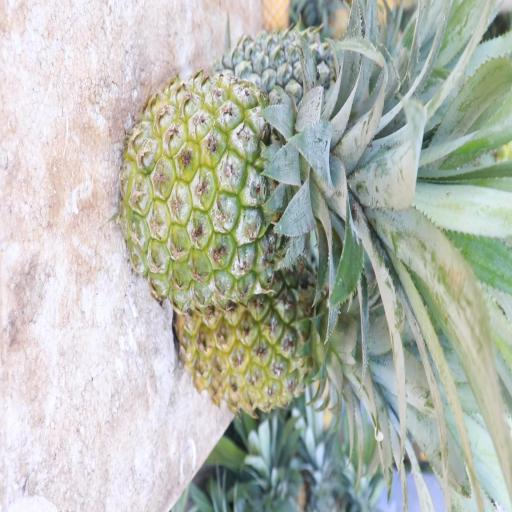------------------------------: (115, 62, 417, 314)
Pineapple - v8 v1: (167, 230, 403, 420)
